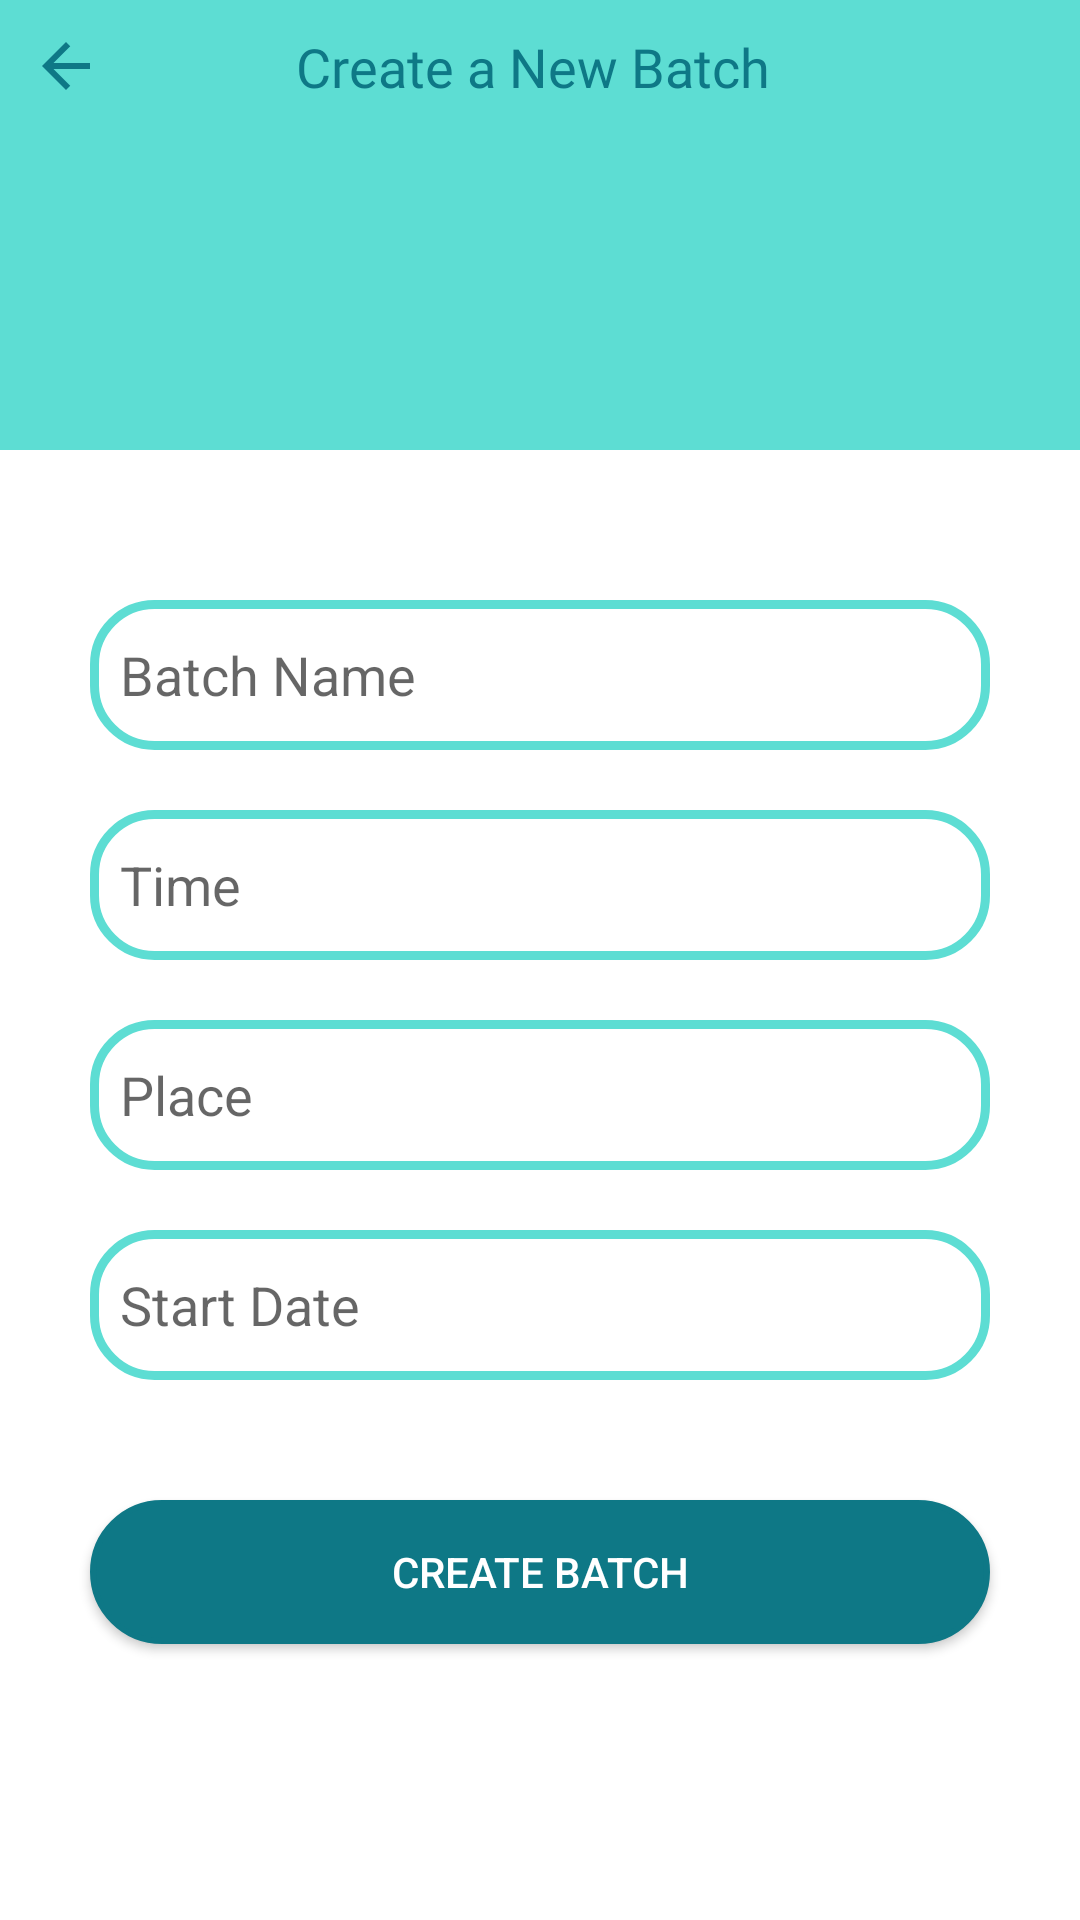

Icons on this 1080x1920 Android screen, each with its box as [x1, y1, x2, y2]:
back: [42, 42, 90, 90]
